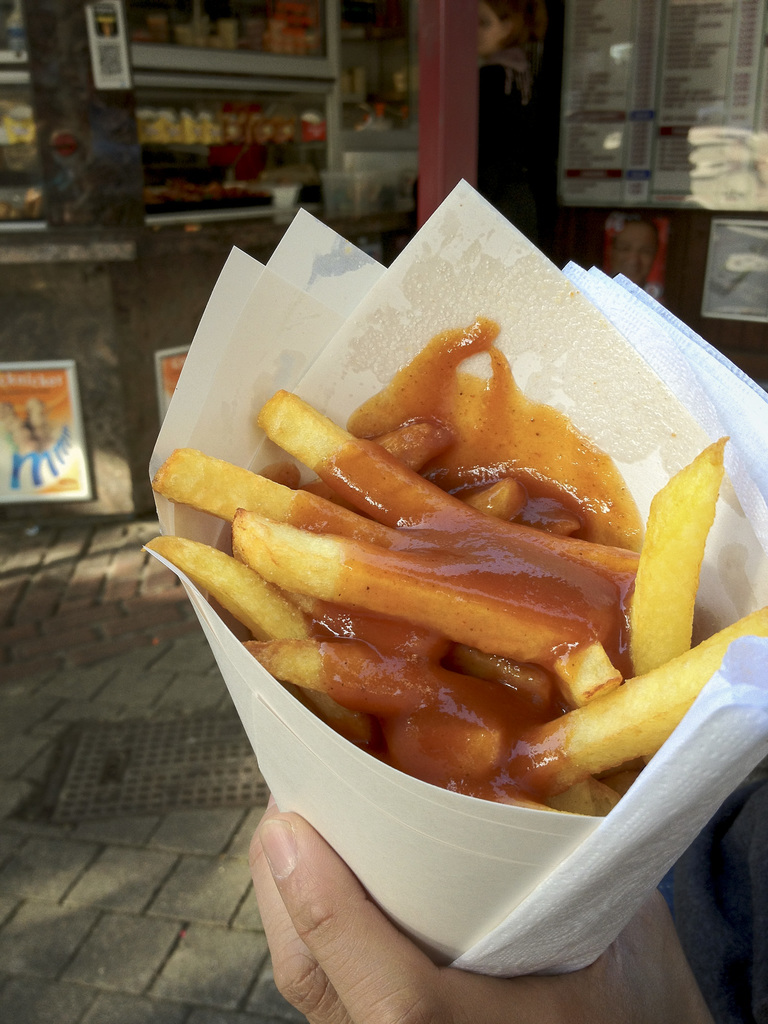French fries: (140, 318, 768, 816)
